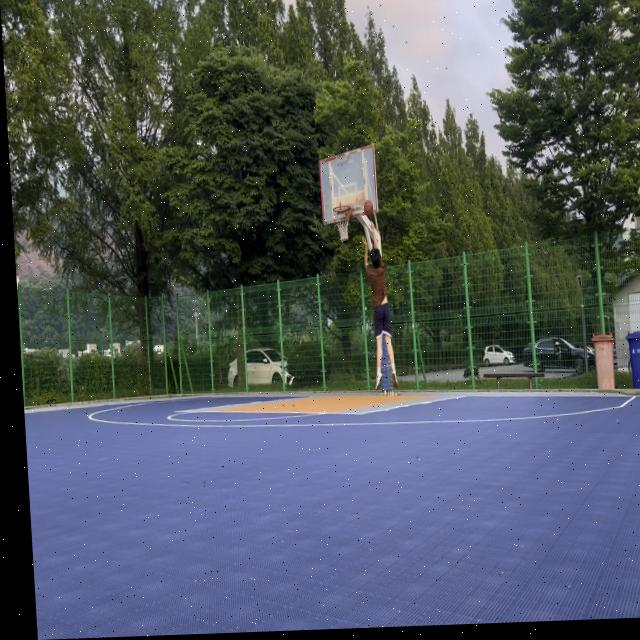basketball: (363, 199, 374, 218)
hoop: (332, 205, 353, 243)
